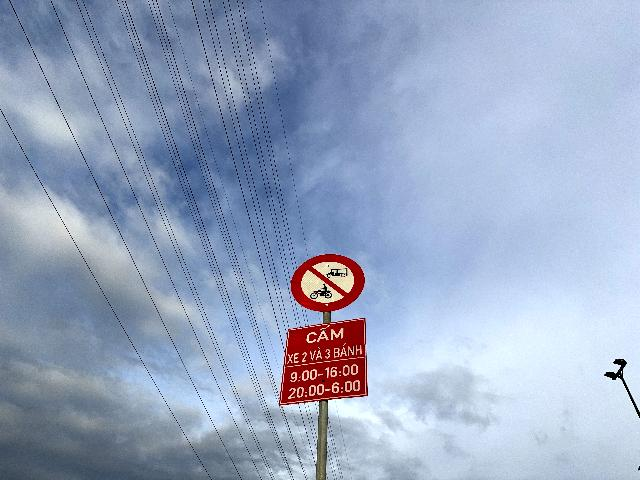cam-xe-2-banh-3-banh: (290, 253, 365, 312)
